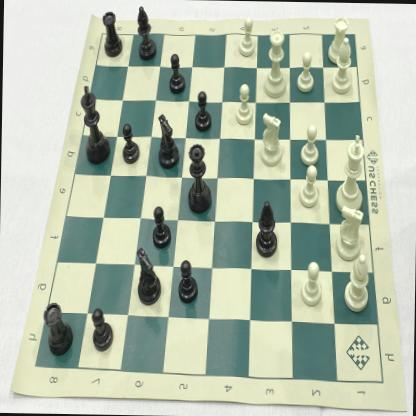black-bishop: (254, 200, 279, 260), (134, 3, 157, 61)
black-king: (78, 80, 112, 168)
black-knight: (134, 244, 162, 308), (154, 111, 180, 170)
black-pawn: (90, 304, 114, 354), (176, 257, 199, 304), (191, 88, 214, 134), (119, 122, 141, 167), (166, 50, 188, 95), (150, 204, 172, 248)
black-queen: (186, 141, 212, 216)
black-rook: (41, 298, 74, 357), (100, 8, 124, 60)
white-bishop: (340, 250, 372, 312), (329, 36, 356, 96)
white-king: (334, 131, 367, 215)
white-knight: (334, 204, 366, 262), (258, 112, 284, 169)
white-pawn: (296, 164, 323, 210), (299, 260, 323, 308), (294, 51, 317, 96), (299, 121, 321, 168), (232, 82, 254, 126), (236, 14, 257, 59)
white-queen: (262, 24, 290, 100)
white-rook: (326, 14, 350, 64)
